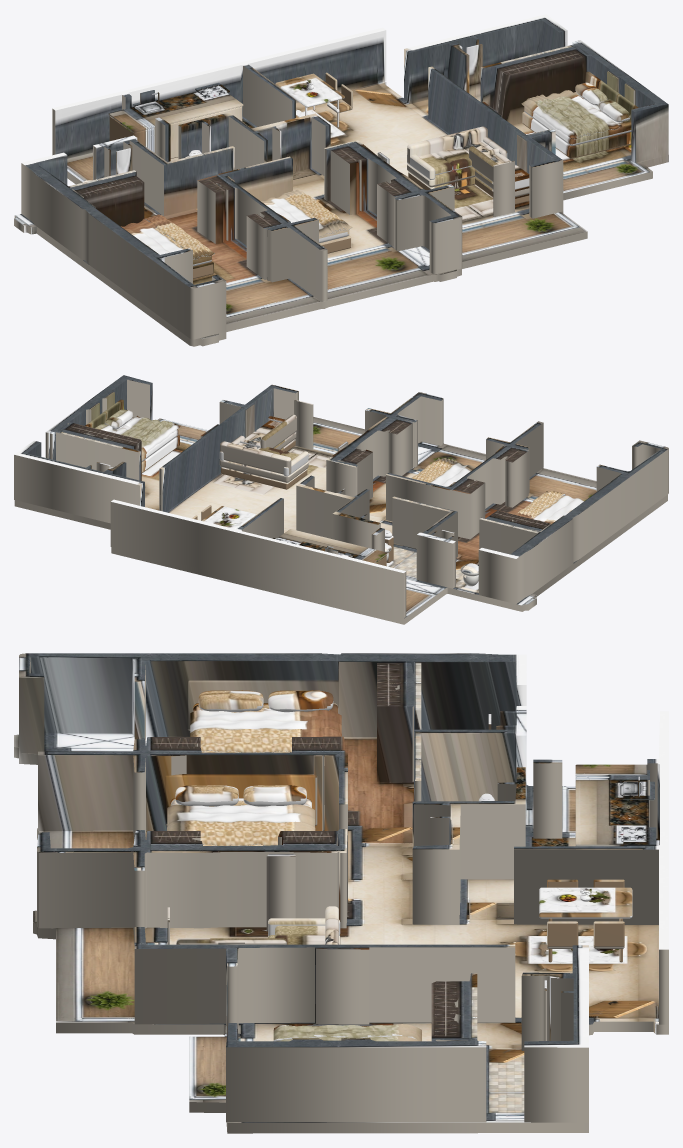
File: p8-08-u08-2112-image-model.glb
3 renders of one model, top to bottom at view 1: azimuth 30°, elevation 25°; view 2: azimuth 150°, elevation 25°; view 3: azimuth 270°, elevation 25°, orthographic. The views are drawn at different scales.
Parts seen in each view (by area): view 1: Partition walls, Apartment floor, Stone worktop, Draped bed linen.004, Kitchen cabinets, Marble dining top, Walnut upholstered base.002, Sofa back, Draped bed linen, Draped bed linen.002, Piped mattress.002, Draped bed linen.001 (+6 smaller); view 2: Partition walls, Apartment floor, Stone worktop, Sofa back, Draped bed linen.004, Draped bed linen, Upholstered sofa frame, Marble dining top, Draped bed linen.002, Sofa back.001, Sofa plinth, Draped bed linen.001 (+3 smaller); view 3: Partition walls, Apartment floor, Stone worktop, Draped bed linen, Draped bed linen.002, Marble dining top, Upholstered headboard.001, Upholstered headboard, Draped bed linen.005, Draped bed linen.001, Draped bed linen.003, Tailored pillow (+7 smaller).
Boxes of the visible parts, box(x1,y1,x2,y2) form: Partition walls: box(21, 14, 668, 339); Apartment floor: box(14, 81, 668, 346); Stone worktop: box(108, 91, 243, 132); Draped bed linen.004: box(521, 90, 620, 139); Kitchen cabinets: box(109, 106, 242, 158); Marble dining top: box(275, 73, 344, 107); Walnut upholstered base.002: box(522, 112, 631, 158); Sofa back: box(407, 126, 487, 163); Draped bed linen: box(121, 216, 214, 259); Draped bed linen.002: box(260, 191, 352, 236); Piped mattress.002: box(524, 92, 631, 145); Draped bed linen.001: box(142, 214, 209, 258); Partition walls: box(14, 375, 668, 618); Apartment floor: box(14, 417, 667, 624); Stone worktop: box(277, 529, 387, 563); Sofa back: box(220, 441, 291, 474); Draped bed linen.004: box(115, 416, 180, 456); Draped bed linen: box(515, 491, 583, 524); Upholstered sofa frame: box(219, 460, 308, 482); Marble dining top: box(202, 506, 255, 529); Draped bed linen.002: box(411, 458, 474, 486); Sofa back.001: box(260, 414, 296, 448); Sofa plinth: box(221, 467, 307, 489); Draped bed linen.001: box(516, 491, 565, 518); Partition walls: box(19, 653, 668, 1122); Apartment floor: box(14, 733, 668, 1133); Stone worktop: box(575, 764, 649, 846); Draped bed linen: box(190, 710, 341, 752); Draped bed linen.002: box(167, 804, 314, 845); Marble dining top: box(539, 887, 632, 918); Upholstered headboard.001: box(165, 774, 317, 825); Upholstered headboard: box(187, 679, 338, 730); Draped bed linen.005: box(273, 1024, 421, 1041); Draped bed linen.001: box(190, 728, 341, 744); Draped bed linen.003: box(167, 821, 315, 836); Tailored pillow: box(198, 690, 263, 712).
Bounding box in the file's own units: 13.02 × 1.3 × 9.
Materials: 14 (3 with a texture image).
